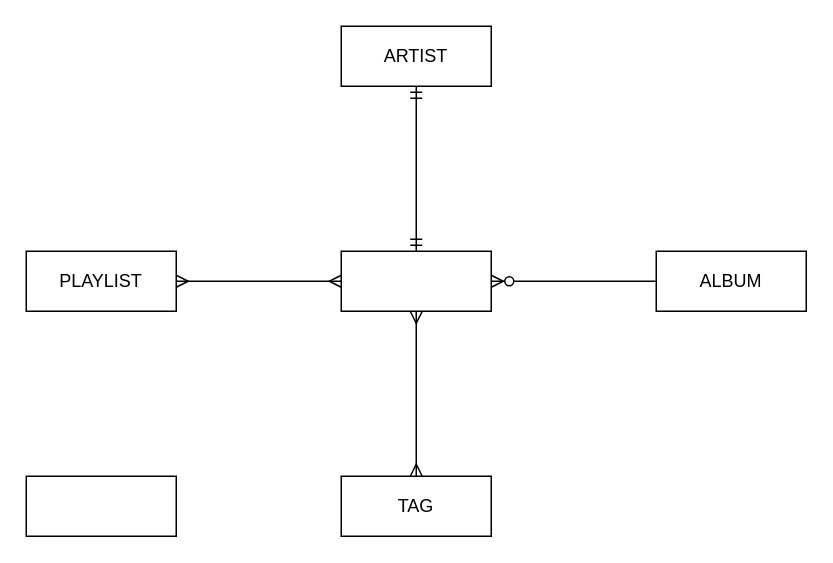
This 833x563 diagram has some shape labels left out. Each missing label, with the centre of its shape:
CATEGORY: (100,505)
MUSIC: (415,280)
